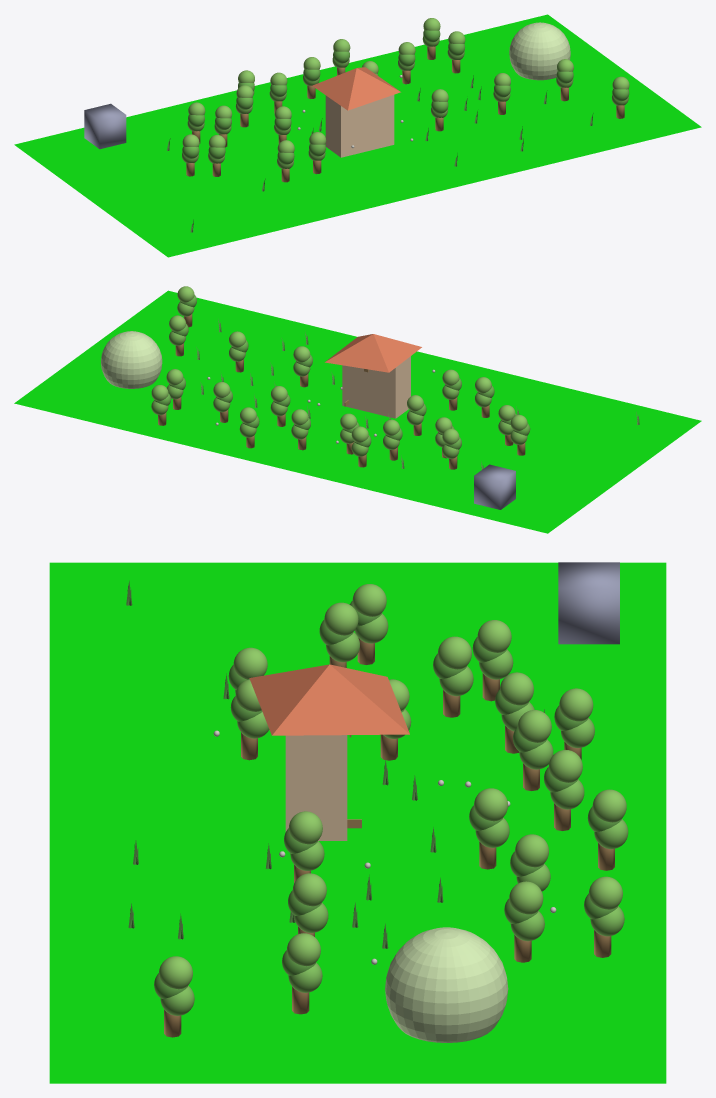
The model's file is village.glb.
The picture shows the model from 3 angles, top to bottom: view 1: azimuth 30°, elevation 25°; view 2: azimuth 150°, elevation 25°; view 3: azimuth 270°, elevation 25°; orthographic projection. The views are drawn at different scales.
Parts seen in each view (by area): view 1: Plane, House_Base, Sphere, House_Roof, Cube, Tree_Foliage_14.0_14.0_2.007, Tree_Foliage_14.0_14.0_2.002, Tree_Foliage_14.0_14.0_2.004, Tree_Foliage_14.0_14.0_2.015, Tree_Foliage_14.0_14.0_2.016, Tree_Foliage_14.0_14.0_2.003, Tree_Foliage_14.0_14.0_2.009 (+11 smaller); view 2: Plane, House_Base, Sphere, House_Roof, Cube, Tree_Foliage_14.0_14.0_2.013, Tree_Foliage_14.0_14.0_2.002, Tree_Foliage_14.0_14.0_2.003, Tree_Foliage_14.0_14.0_2.017, Tree_Foliage_14.0_14.0_2.014, Tree_Foliage_14.0_14.0_2.016, Tree_Foliage_14.0_14.0_2.011 (+12 smaller); view 3: Plane, Sphere, House_Roof, House_Base, Cube, Tree_Foliage_14.0_14.0_2.004, Tree_Foliage_14.0_14.0_2.009, Tree_Foliage_14.0_14.0_2.019, Tree_Foliage_14.0_14.0_2.001, Tree_Foliage_14.0_14.0_2.006, Tree_Foliage_14.0_14.0_2.010, Tree_Foliage_14.0_14.0_2.011 (+13 smaller).
Part boxes in pixels (x1,y1,x2,y2): Plane: (14, 14, 701, 257); House_Base: (325, 95, 394, 157); Sphere: (509, 22, 570, 80); House_Roof: (312, 67, 400, 110); Cube: (84, 103, 126, 149); Tree_Foliage_14.0_14.0_2.007: (235, 85, 253, 127); Tree_Foliage_14.0_14.0_2.002: (431, 89, 448, 131); Tree_Foliage_14.0_14.0_2.004: (447, 31, 465, 73); Tree_Foliage_14.0_14.0_2.015: (277, 140, 294, 182); Tree_Foliage_14.0_14.0_2.016: (182, 134, 199, 176); Tree_Foliage_14.0_14.0_2.003: (308, 132, 326, 174); Tree_Foliage_14.0_14.0_2.009: (611, 76, 629, 118); Plane: (14, 290, 701, 533); House_Base: (342, 356, 410, 418); Sphere: (101, 331, 162, 388); House_Roof: (324, 334, 421, 372); Cube: (474, 464, 515, 509); Tree_Foliage_14.0_14.0_2.013: (351, 426, 371, 467); Tree_Foliage_14.0_14.0_2.002: (293, 346, 312, 387); Tree_Foliage_14.0_14.0_2.003: (442, 369, 461, 410); Tree_Foliage_14.0_14.0_2.017: (291, 409, 310, 450); Tree_Foliage_14.0_14.0_2.014: (442, 428, 461, 469); Tree_Foliage_14.0_14.0_2.016: (510, 414, 530, 455); Tree_Foliage_14.0_14.0_2.011: (239, 407, 259, 448); Plane: (49, 562, 666, 1083); Sphere: (385, 927, 508, 1042); House_Roof: (249, 664, 409, 735); House_Base: (285, 735, 347, 840); Cube: (558, 562, 619, 644); Tree_Foliage_14.0_14.0_2.004: (504, 881, 544, 962); Tree_Foliage_14.0_14.0_2.009: (154, 956, 194, 1037); Tree_Foliage_14.0_14.0_2.019: (282, 933, 322, 1014); Tree_Foliage_14.0_14.0_2.001: (469, 788, 509, 869); Tree_Foliage_14.0_14.0_2.006: (433, 636, 473, 717); Tree_Foliage_14.0_14.0_2.010: (584, 876, 624, 957); Tree_Foliage_14.0_14.0_2.011: (587, 789, 628, 870).
Size of the model in its own units: 40 by 6.19 by 20.
